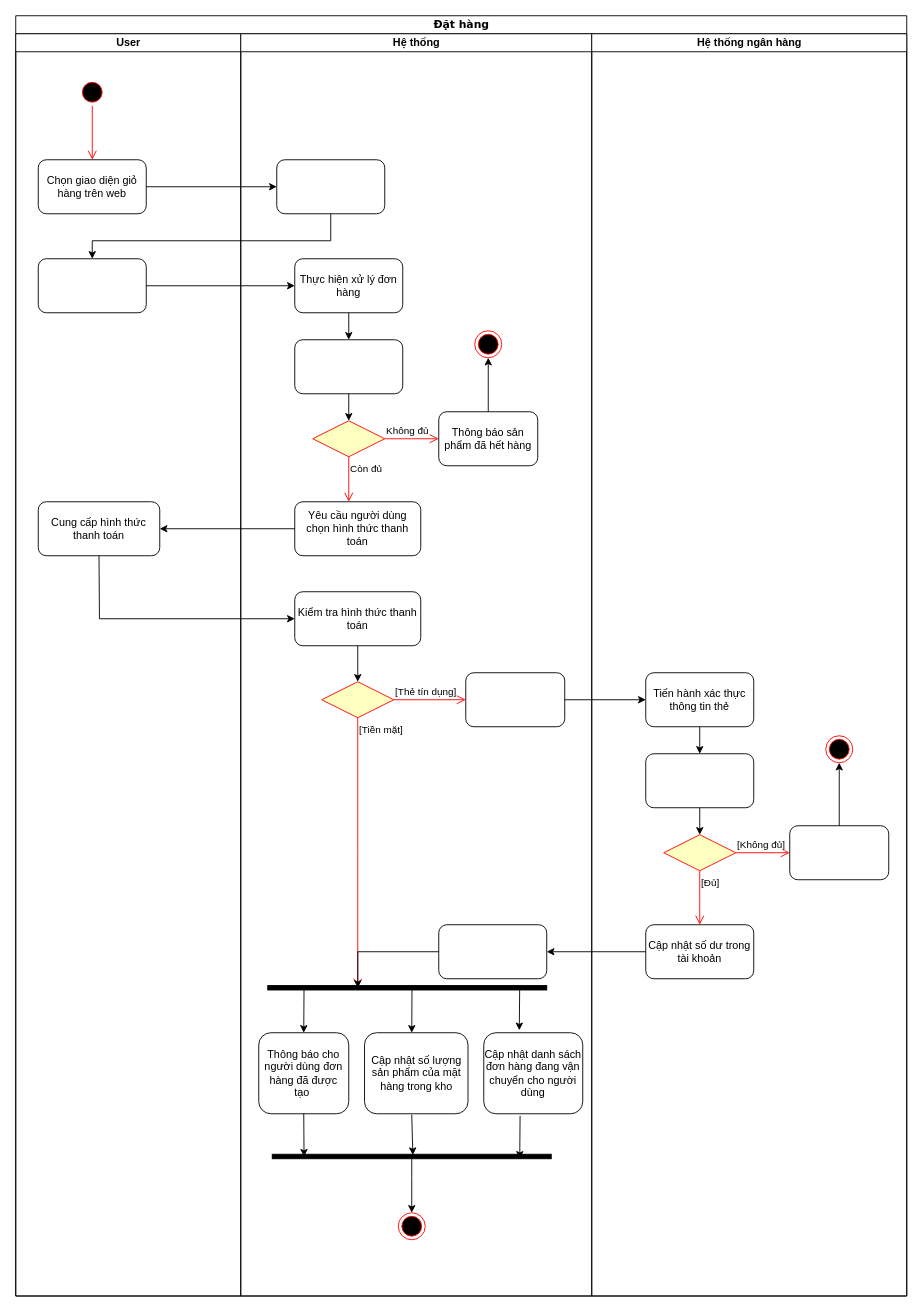
This 923x1312 diagram has some shape labels left out. The centre of each missing label's shape, as x and y in pixels:
"Gửi yêu cầu xác thực tới ngân hàng" belongs at point 515,699.
"Hiển thị giao diện trang giỏ hàng" belongs at point 330,186.
"Hiển thị thông báo thanh toán thành công" belongs at point 492,951.
"Kiểm tra số dư tài khoản" belongs at point 699,780.
"Kiểm tra xem số lượng sản phẩm trong kho có đủ?" belongs at point 348,366.
"Nhập địa chỉ, số điện thoại nhận hàng" belongs at point 91,285.
"Thông báo số dư tài khoản không đủ" belongs at point 839,852.
